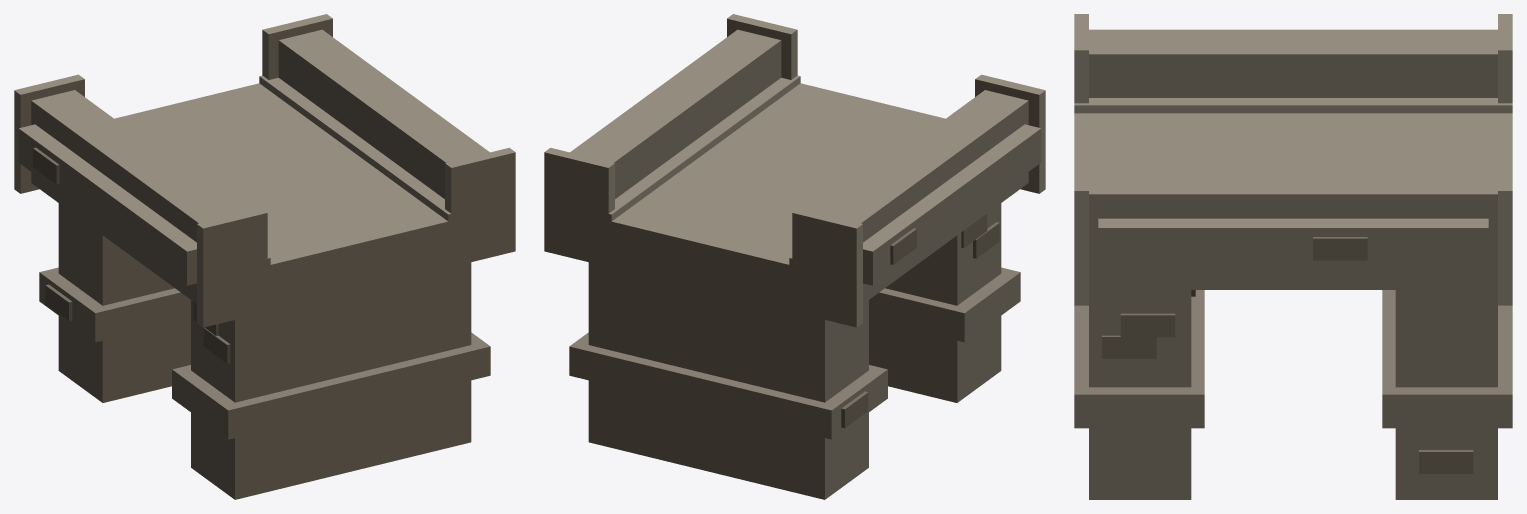
Rendered from Bridge_Stone.gltf.
3 renders of one model, left to right at view 1: azimuth 30°, elevation 25°; view 2: azimuth 150°, elevation 25°; view 3: azimuth 270°, elevation 25°, orthographic. The views are drawn at different scales.
Visible parts, largest first — view 1: SF_Prop_Bridge_Stone_01; view 2: SF_Prop_Bridge_Stone_01; view 3: SF_Prop_Bridge_Stone_01.
Part boxes in pixels (bbox=[...]): SF_Prop_Bridge_Stone_01: bbox=[14, 14, 515, 499]; SF_Prop_Bridge_Stone_01: bbox=[544, 14, 1045, 499]; SF_Prop_Bridge_Stone_01: bbox=[1074, 14, 1512, 499].
Bounding box in the file's own units: 0.1009 × 0.0833 × 0.1.
1 material, 1 textured.
